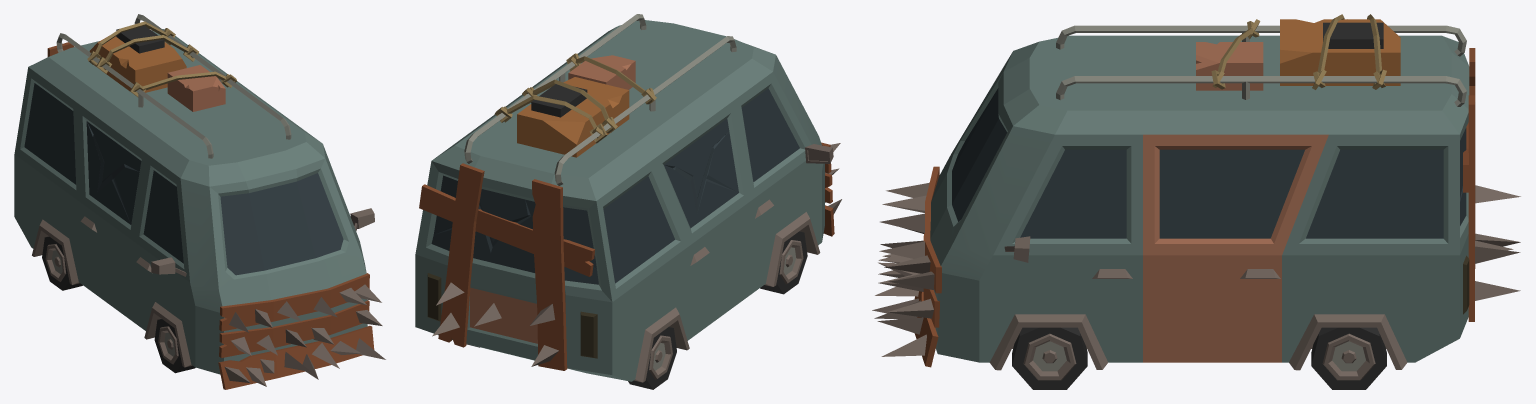
File: LP_PostApoc_ScoobyVan.fbx
3 renders of one model, left to right at view 1: azimuth 30°, elevation 25°; view 2: azimuth 150°, elevation 25°; view 3: azimuth 270°, elevation 25°, orthographic. The views are drawn at different scales.
Visible parts, largest first — view 1: ScoobyVan; view 2: ScoobyVan; view 3: ScoobyVan.
Boxes of the visible parts, <box> form: ScoobyVan: <box>14,14,385,389</box>; ScoobyVan: <box>415,14,841,389</box>; ScoobyVan: <box>872,14,1520,389</box>.
Size of the model in its own units: 291 by 294 by 559.
